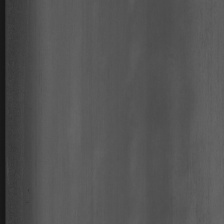inclusion: (187, 8, 218, 217)
